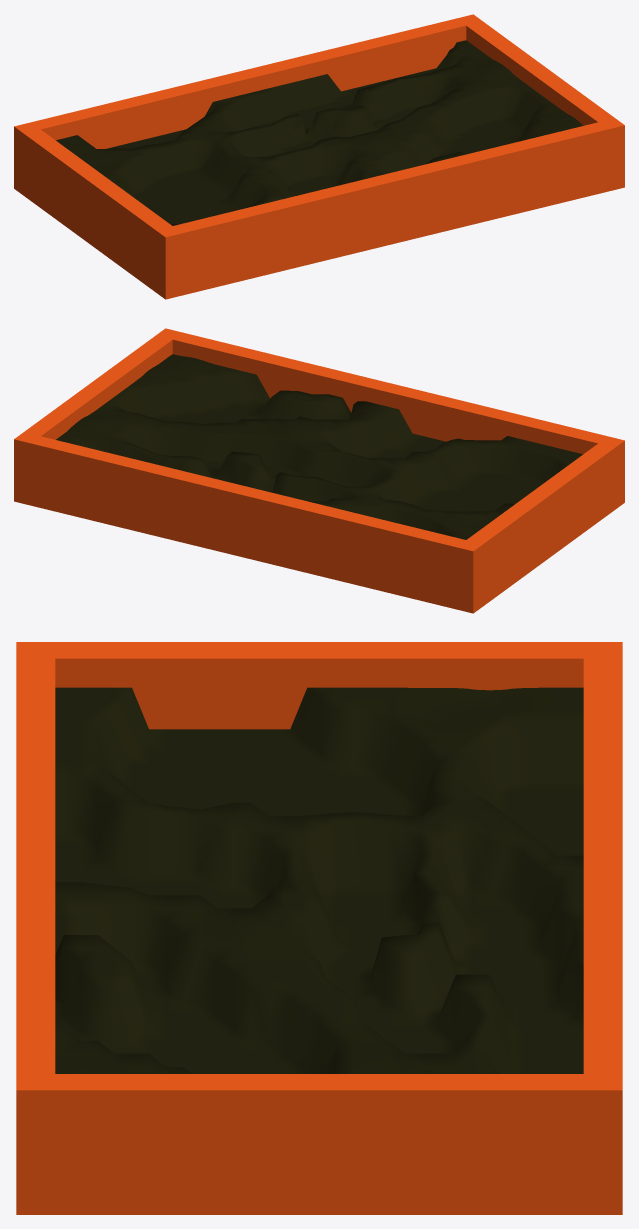
The model's file is 3D_ENVSB_003.FBX.
3 views of the same model, one above another, from view 1: azimuth 30°, elevation 25°; view 2: azimuth 150°, elevation 25°; view 3: azimuth 270°, elevation 25° (orthographic). The views are drawn at different scales.
Visible parts, largest first — view 1: SandBoxPlanks, SandboxSand; view 2: SandBoxPlanks, SandboxSand; view 3: SandboxSand, SandBoxPlanks.
Boxes of the visible parts, bbox=[...] form: SandBoxPlanks: bbox=[14, 14, 624, 299]; SandboxSand: bbox=[56, 40, 583, 225]; SandBoxPlanks: bbox=[14, 328, 624, 613]; SandboxSand: bbox=[56, 354, 582, 539]; SandboxSand: bbox=[55, 687, 583, 1073]; SandBoxPlanks: bbox=[16, 642, 622, 1214].
Bounding box in the file's own units: 140 × 18.12 × 80.
